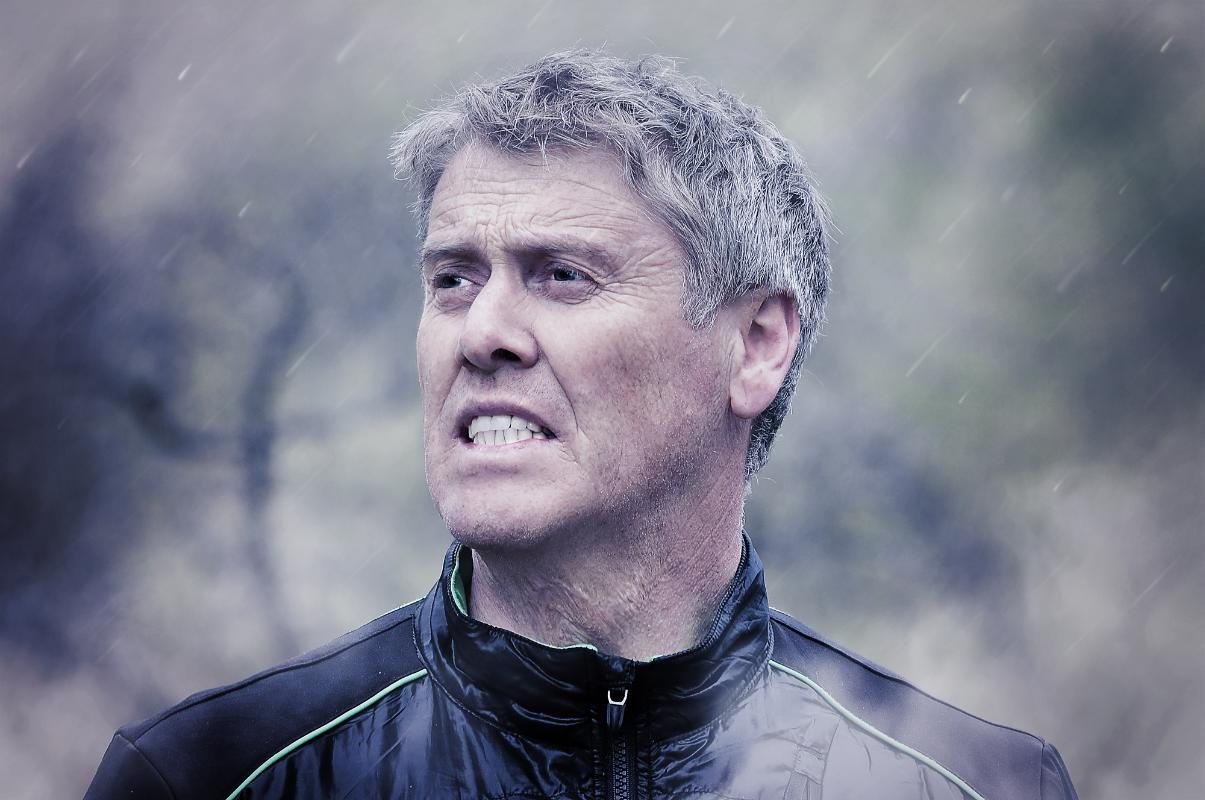Person: (77, 41, 1088, 800)
